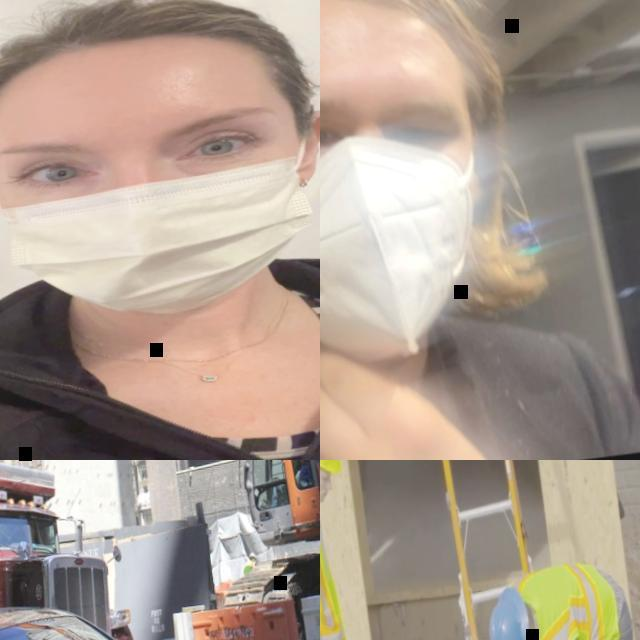helmet: (482, 584, 534, 640), (248, 552, 255, 561)
vest: (516, 557, 625, 640), (320, 480, 353, 640), (241, 562, 254, 576)
